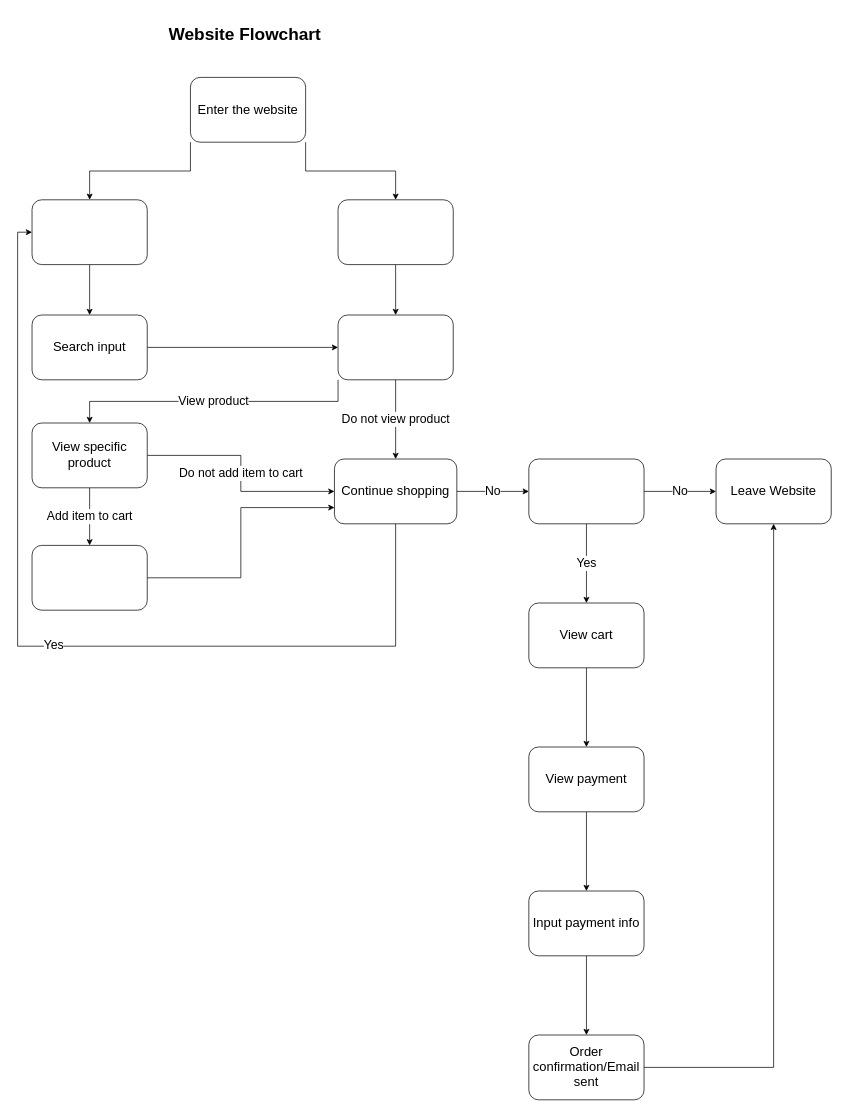
This 844x1112 diagram has some shape labels left out. Each missing label, with the box of its shape:
Add item to cart confirmation: (31, 545, 147, 610)
Check out: (528, 458, 644, 524)
Explore products on homepage: (337, 199, 453, 265)
Look over products: (337, 314, 453, 380)
Search for a product: (31, 199, 147, 265)
